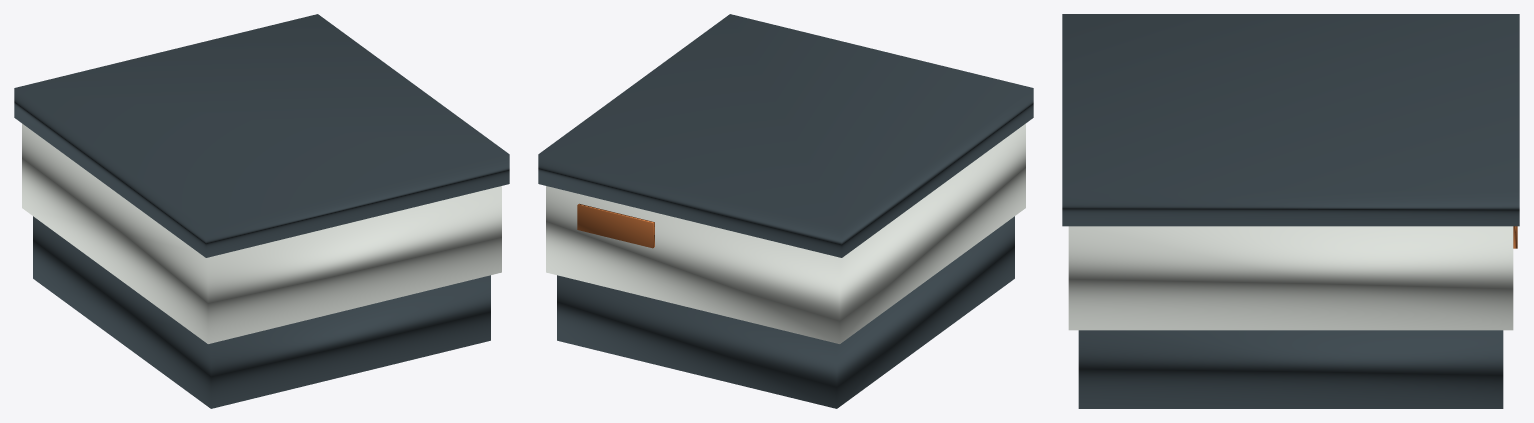
File: crate-r1.glb
3 renders of one model, left to right at view 1: azimuth 30°, elevation 25°; view 2: azimuth 150°, elevation 25°; view 3: azimuth 270°, elevation 25°, orthographic. The views are drawn at different scales.
Visible parts, largest first — view 1: Crate; view 2: Crate; view 3: Crate.
Boxes of the visible parts, x1,y1,x2,y2 form: Crate: [14, 14, 509, 408]; Crate: [538, 14, 1033, 408]; Crate: [1062, 14, 1519, 408].
Bounding box in the file's own units: 0.64 × 0.38 × 0.7.
